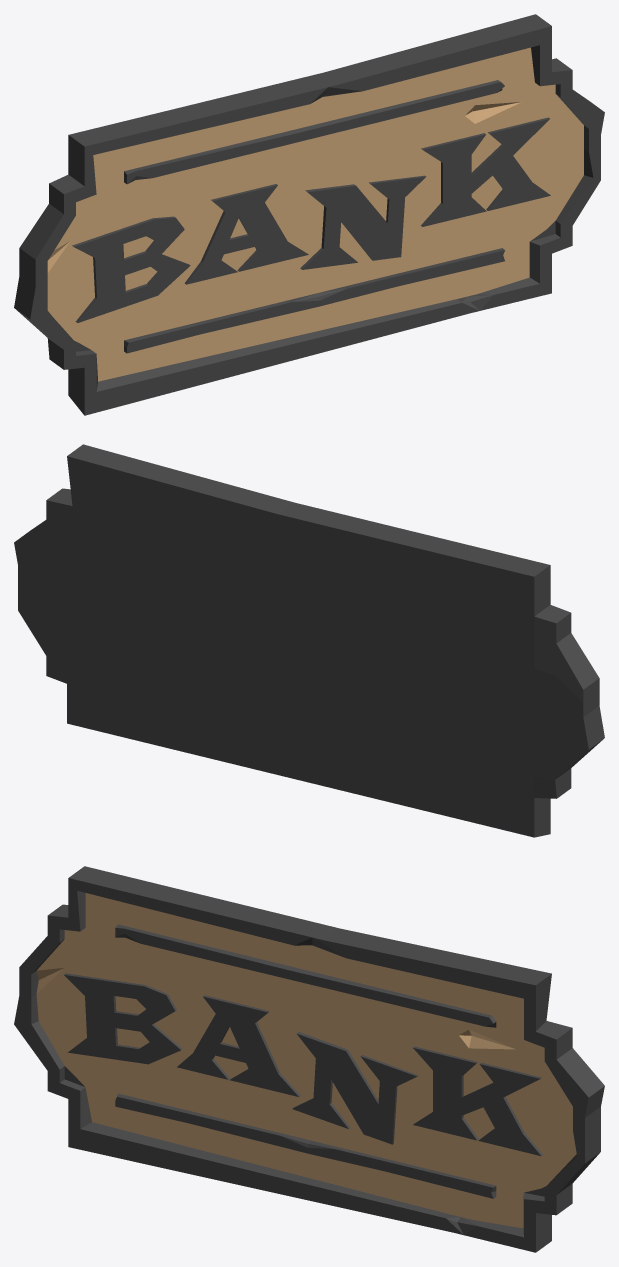
The model's file is Signboard_Bank.fbx.
3 views of the same model, one above another, from view 1: azimuth 30°, elevation 25°; view 2: azimuth 150°, elevation 25°; view 3: azimuth 330°, elevation 25° (orthographic).
Visible parts, largest first — view 1: Signboard_Bank; view 2: Signboard_Bank; view 3: Signboard_Bank.
Part boxes in pixels (x1,y1,x2,y2): Signboard_Bank: (14, 14, 604, 415); Signboard_Bank: (14, 444, 604, 837); Signboard_Bank: (14, 866, 604, 1252).
Size of the model in its own units: 462 by 22.49 by 212.
